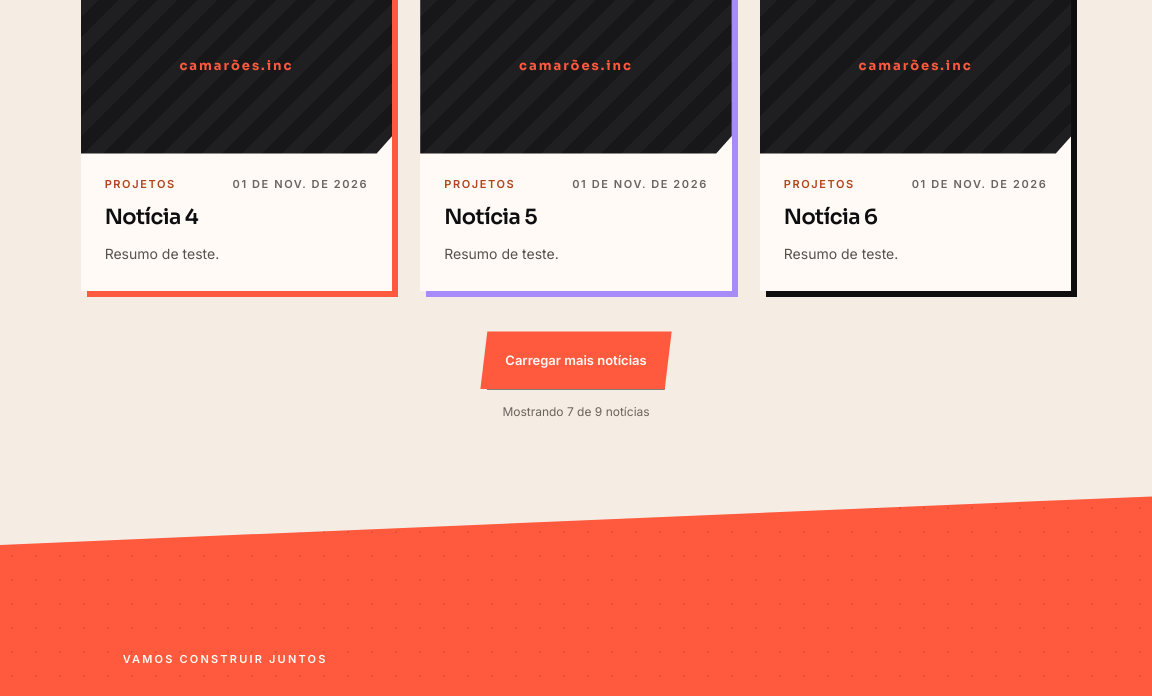
Test case: NewsPage › mostra 6 cartões por vez e carrega mais sob demanda
This screenshot has width=1152, height=696.
(page scrolled)
Check: the text "Mostrando 7 de 9 notícias" is shown, box [502,403,650,421]
Click the button "Carregar mais notícias": (576, 360) [480,331,672,389]
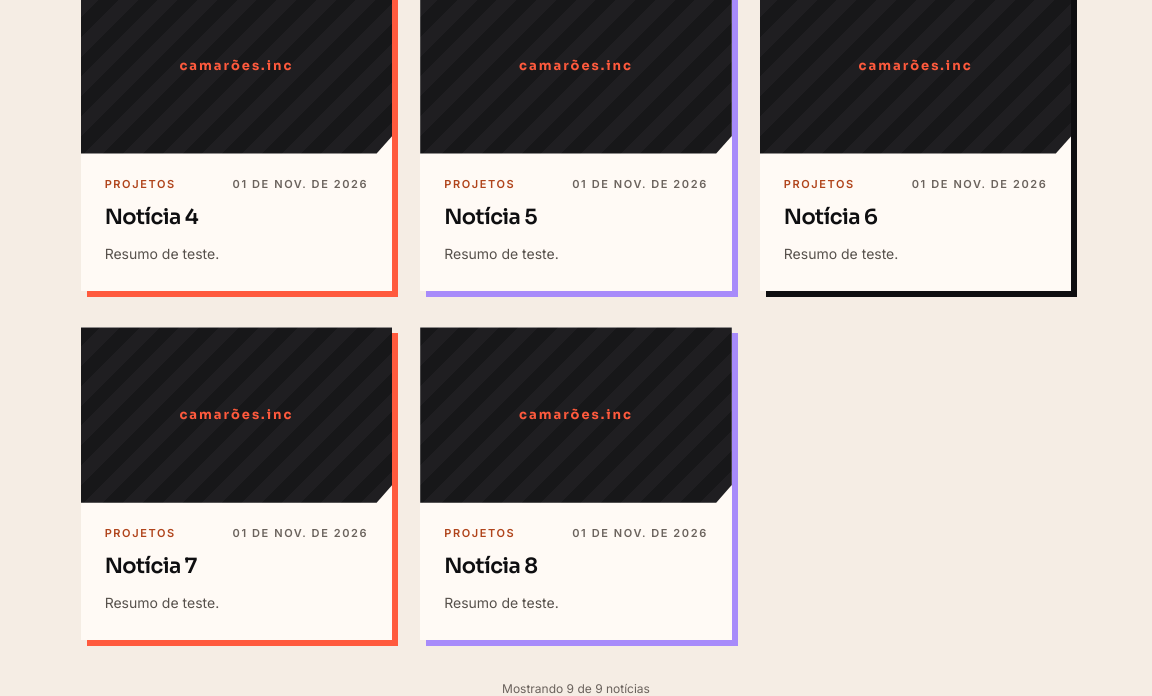
Check: the button "Carregar mais notícias" is gone
